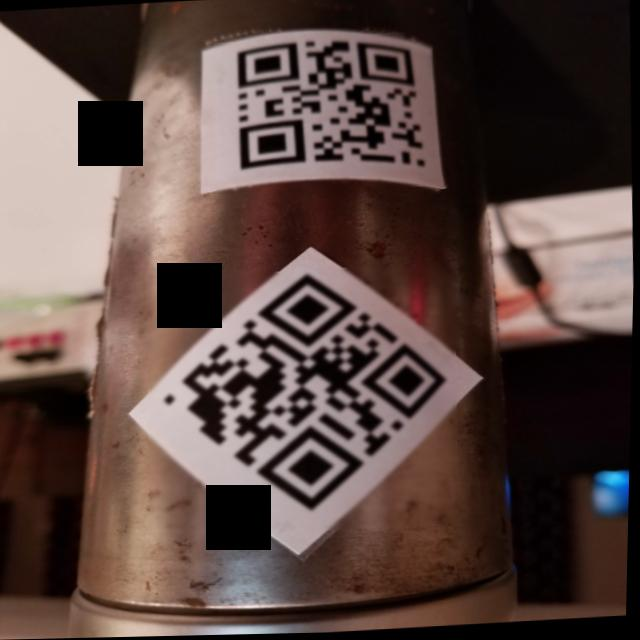QR_CODE: (143, 263, 465, 541), (211, 32, 437, 199)
